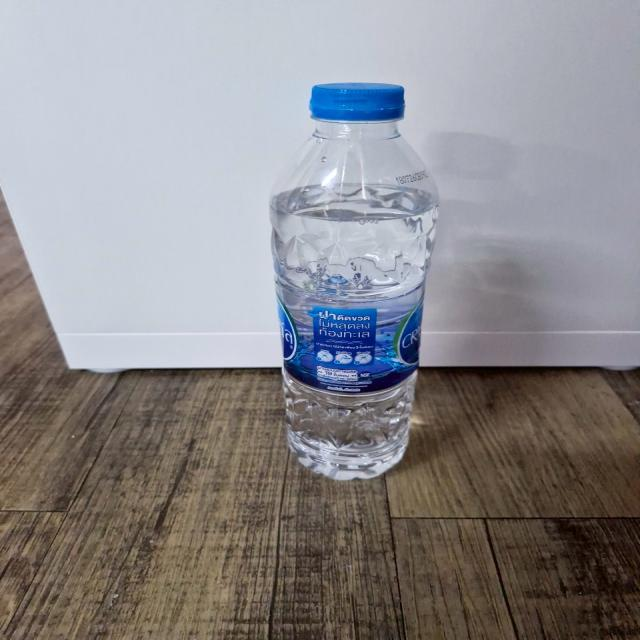plastic bottle: (272, 75, 442, 478)
